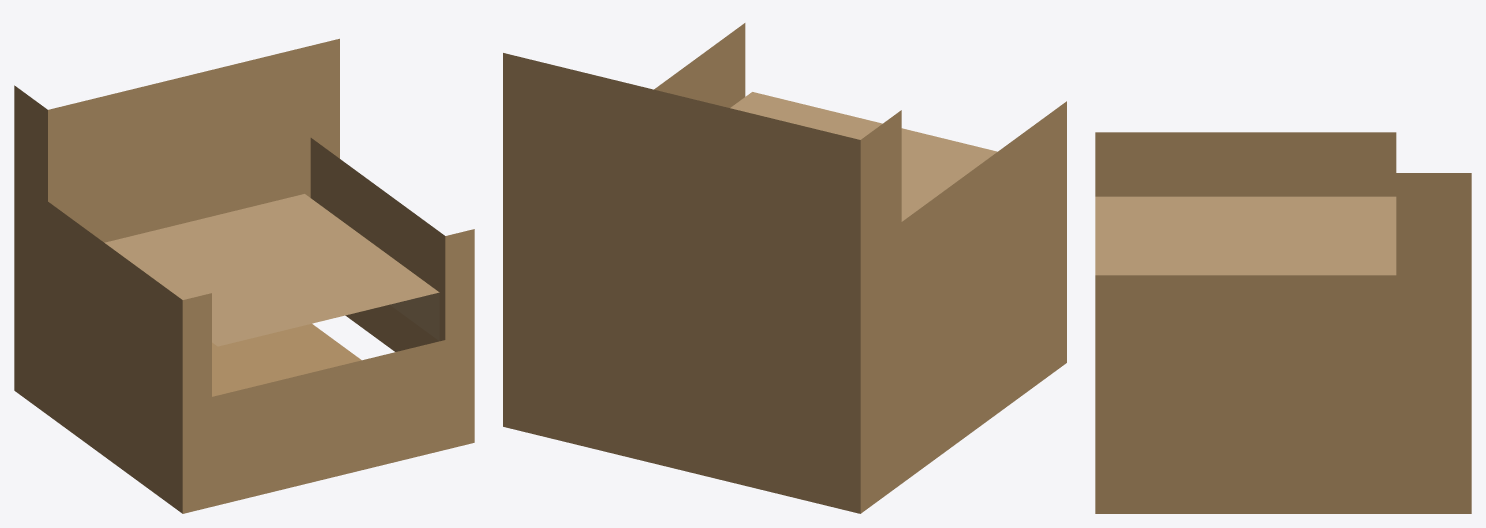
Rendered from Sofa-tan.glb.
3 renders of one model, left to right at view 1: azimuth 30°, elevation 25°; view 2: azimuth 150°, elevation 25°; view 3: azimuth 270°, elevation 25°, orthographic. The views are drawn at different scales.
Visible parts, largest first — view 1: Sofa; view 2: Sofa; view 3: Sofa.
Part boxes in pixels (x1,y1,x2,y2): Sofa: (14,38,474,513); Sofa: (503,23,1066,513); Sofa: (1095,132,1471,513).
Size of the model in its own units: 1 by 1 by 1.
